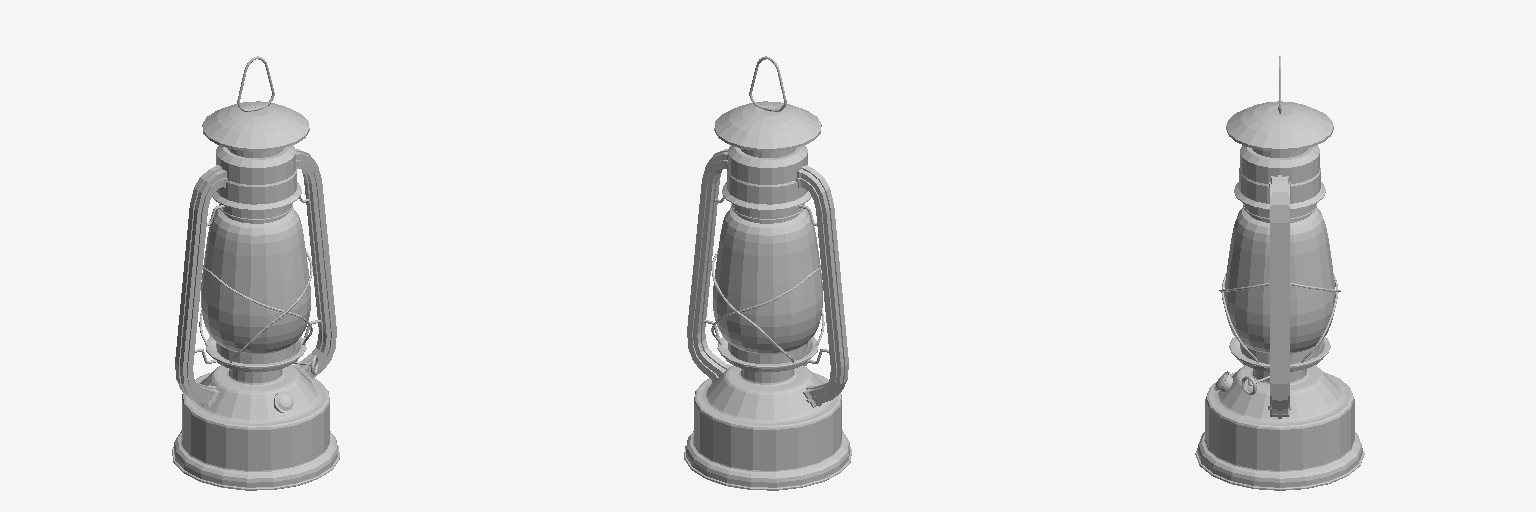
File: Oil_lamp.obj
3 renders of one model, left to right at view 1: azimuth 30°, elevation 25°; view 2: azimuth 150°, elevation 25°; view 3: azimuth 270°, elevation 25°, orthographic.
Parts seen in each view (by area): view 1: Lamp_low; view 2: Lamp_low; view 3: Lamp_low.
Boxes of the visible parts, <box> form: Lamp_low: <box>172,56,339,490</box>; Lamp_low: <box>684,56,851,490</box>; Lamp_low: <box>1195,56,1364,490</box>.
Bounding box in the file's own units: 0.6547 × 1.6 × 0.6139.